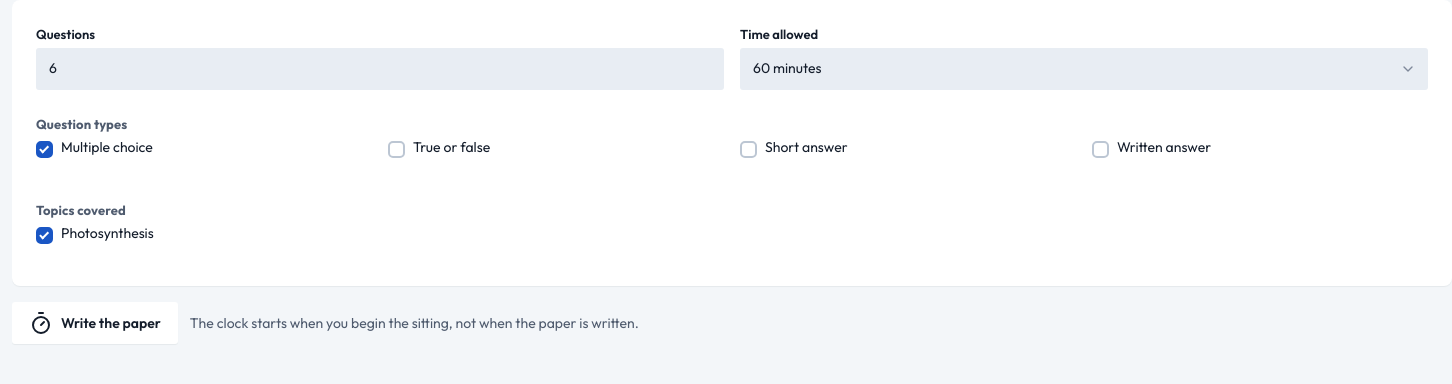
Test: ExamMockExamBuilder › refuses a cleared count rather than sending one the server cannot read
Clear the number field labelled "Questions" at (380, 69), box [36,48,724,90]
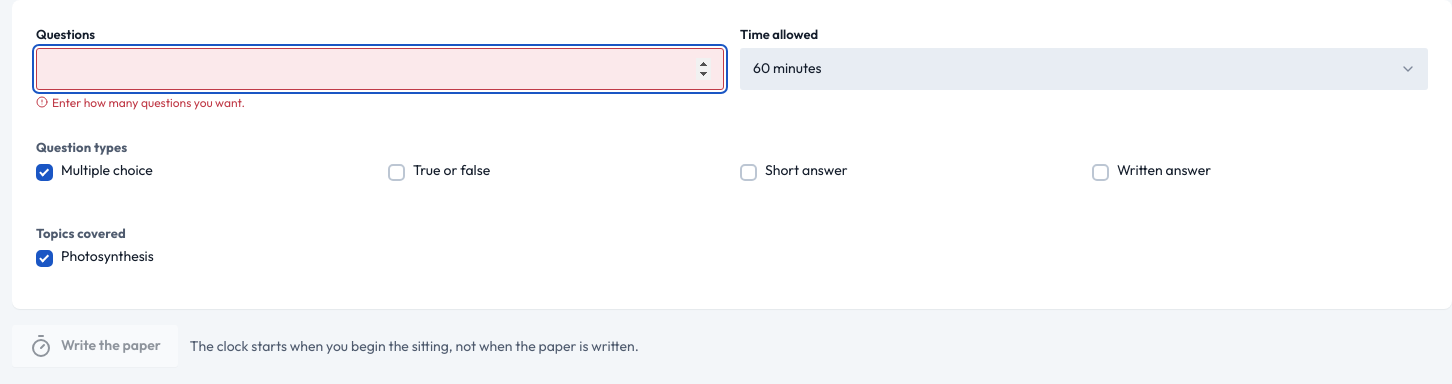
Expected: the button "Write the paper" is disabled, [12,325,178,367]
